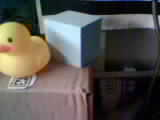duck: (0, 16, 58, 81)
